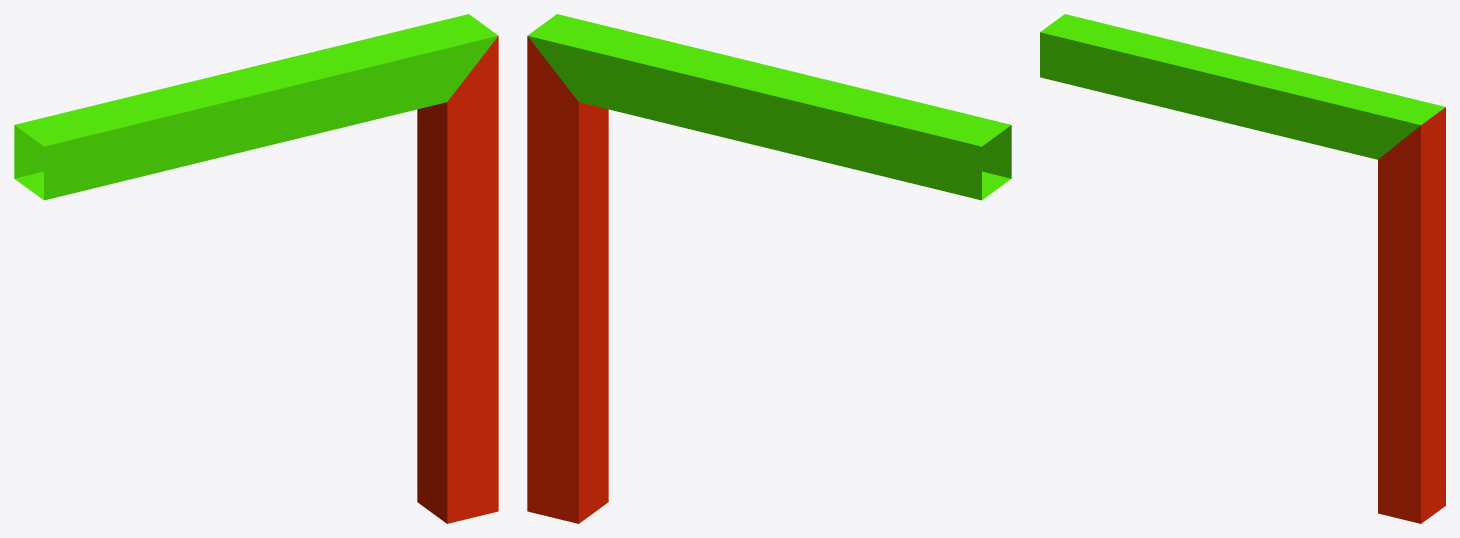
The model's file is TranslateLinesXY.obj.
3 renders of one model, left to right at view 1: azimuth 30°, elevation 25°; view 2: azimuth 150°, elevation 25°; view 3: azimuth 330°, elevation 25°, orthographic. The views are drawn at different scales.
Parts seen in each view (by area): view 1: translate_lines_xy; view 2: translate_lines_xy; view 3: translate_lines_xy.
Boxes of the visible parts, bbox=[...] form: translate_lines_xy: bbox=[14, 14, 498, 523]; translate_lines_xy: bbox=[527, 14, 1011, 523]; translate_lines_xy: bbox=[1040, 14, 1445, 523].
Size of the model in its own units: 26.5 by 26.5 by 3.
Materials: 1 (1 with a texture image).
